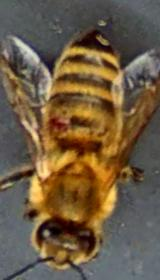varroa_mite: (36, 108, 80, 140)
